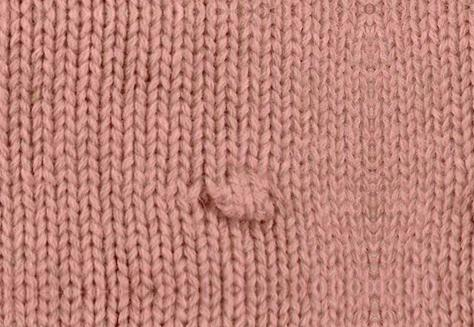knot: (195, 165, 287, 223)
